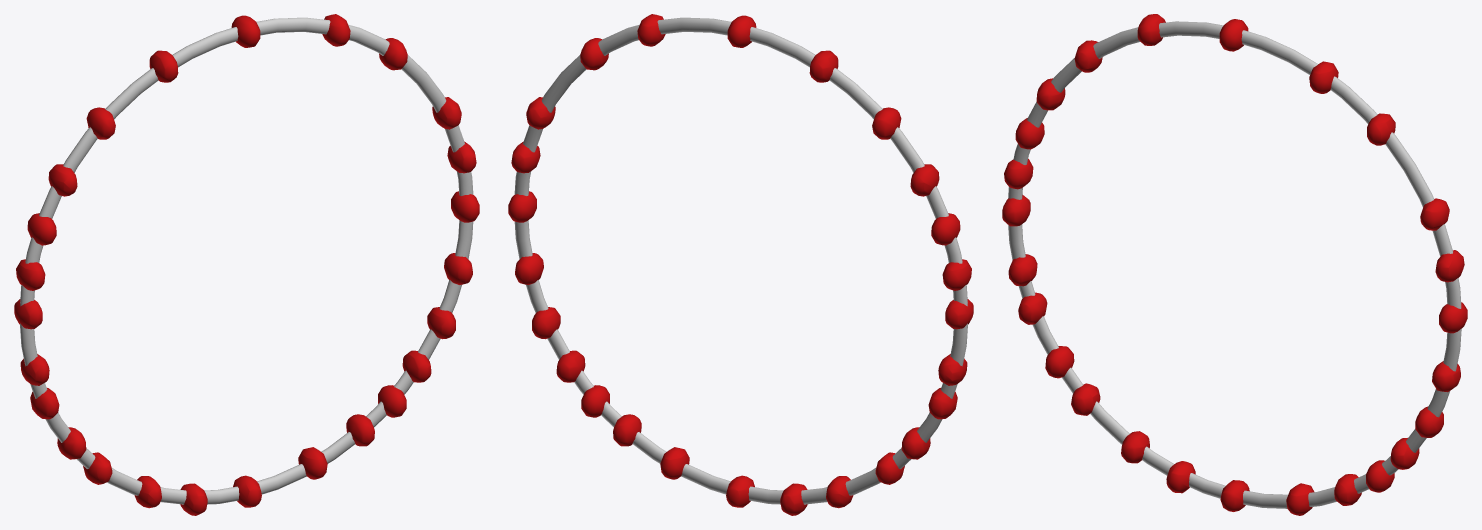
The picture shows the model from 3 angles, left to right: view 1: azimuth 30°, elevation 25°; view 2: azimuth 150°, elevation 25°; view 3: azimuth 330°, elevation 25°; orthographic projection.
Parts seen in each view (by area): view 1: Electron_Mball, Ring_Torus; view 2: Electron_Mball, Ring_Torus; view 3: Electron_Mball, Ring_Torus.
Part boxes in pixels (left/top/right/bottom): Electron_Mball: left=14, top=14, right=479, bottom=515; Ring_Torus: left=20, top=17, right=473, bottom=504; Electron_Mball: left=508, top=14, right=973, bottom=515; Ring_Torus: left=514, top=17, right=967, bottom=504; Electron_Mball: left=1002, top=14, right=1467, bottom=515; Ring_Torus: left=1008, top=21, right=1461, bottom=508.
Size of the model in its own units: 2.91 by 2.96 by 0.2136.
